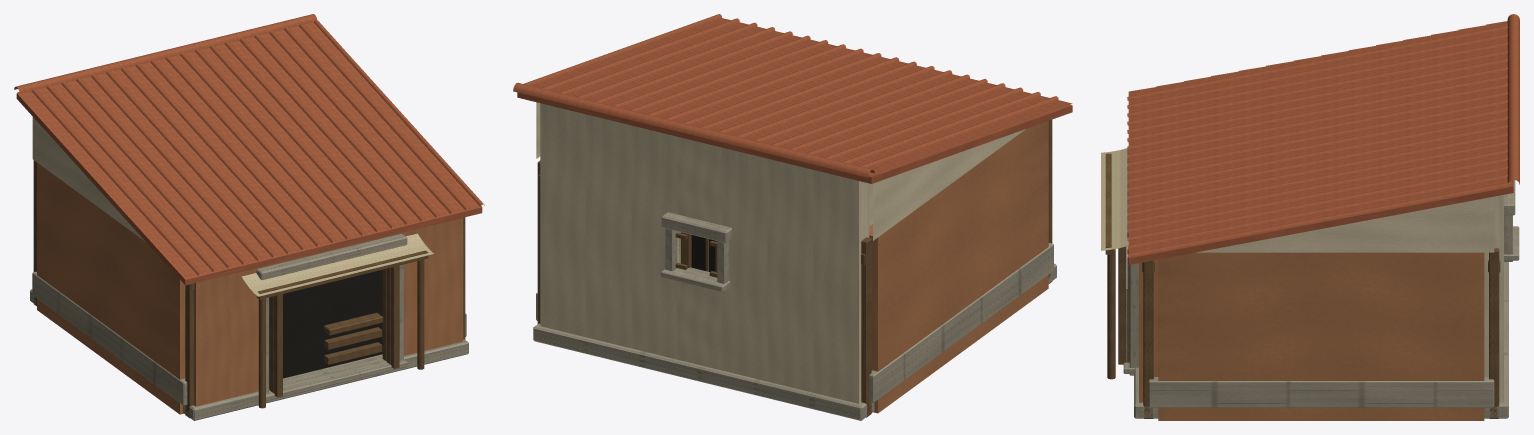
The model's file is taberna.glb.
3 views of the same model, side by side, from view 1: azimuth 30°, elevation 25°; view 2: azimuth 150°, elevation 25°; view 3: azimuth 270°, elevation 25° (orthographic). The views are drawn at different scales.
Parts seen in each view (by area): view 1: taberna; view 2: taberna; view 3: taberna.
Boxes of the visible parts, box(x1,y1,x2,y2) form: taberna: box(14, 14, 484, 420); taberna: box(513, 14, 1072, 420); taberna: box(1101, 14, 1519, 420).
Bounding box in the file's own units: 6.04 × 4.16 × 6.43.
Materials: 1 (1 with a texture image).
